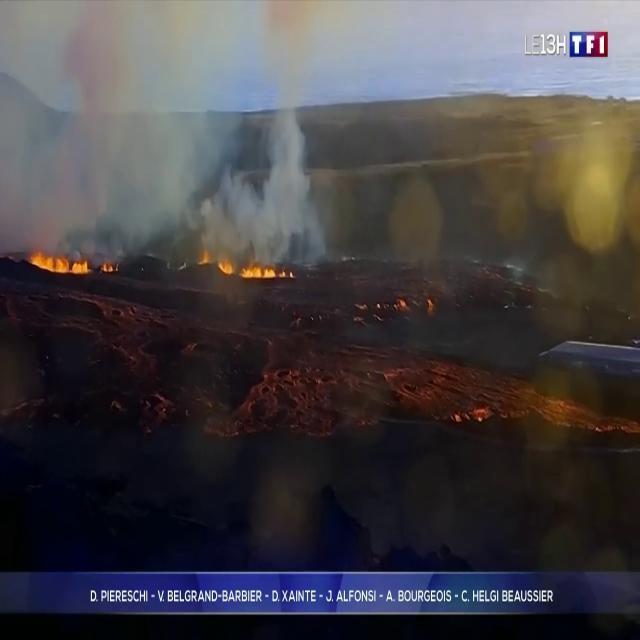Fire: (24, 241, 116, 282), (202, 247, 293, 285)
Smoke: (0, 2, 331, 250)
